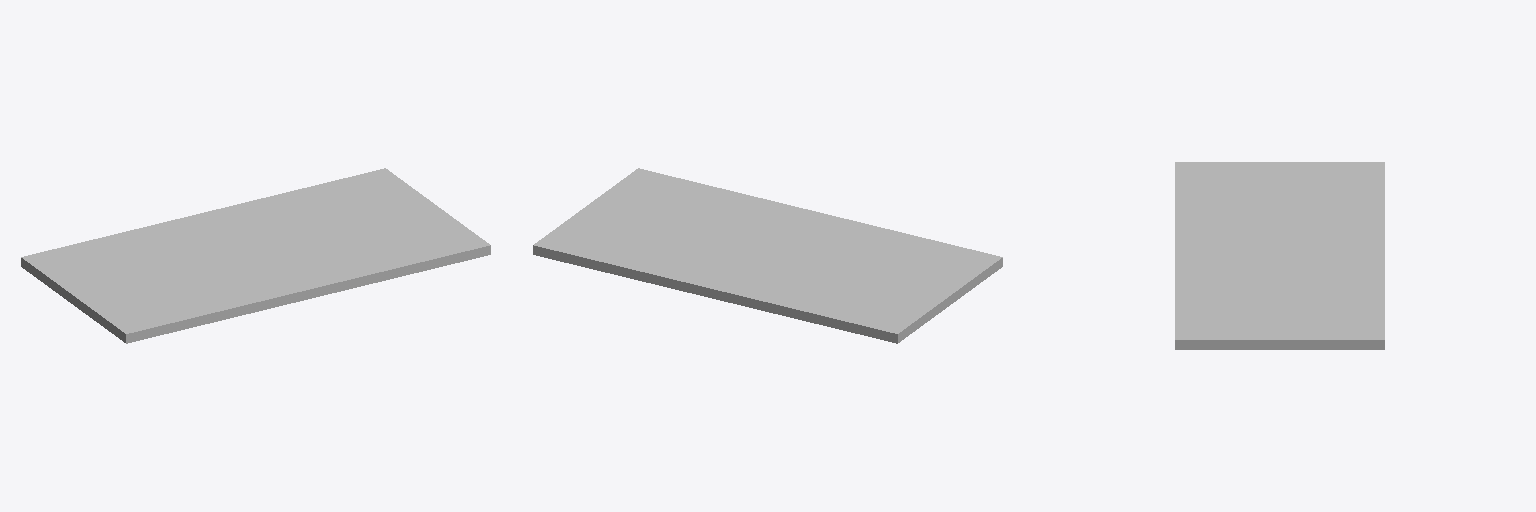
3 views of the same model, side by side, from view 1: azimuth 30°, elevation 25°; view 2: azimuth 150°, elevation 25°; view 3: azimuth 270°, elevation 25° (orthographic).
Parts seen in each view (by area): view 1: navmesh_Cube.001; view 2: navmesh_Cube.001; view 3: navmesh_Cube.001.
Part boxes in pixels (bbox=[...]): navmesh_Cube.001: bbox=[21, 168, 490, 343]; navmesh_Cube.001: bbox=[533, 168, 1002, 343]; navmesh_Cube.001: bbox=[1175, 162, 1384, 349].
Bounding box in the file's own units: 40 × 1 × 20.